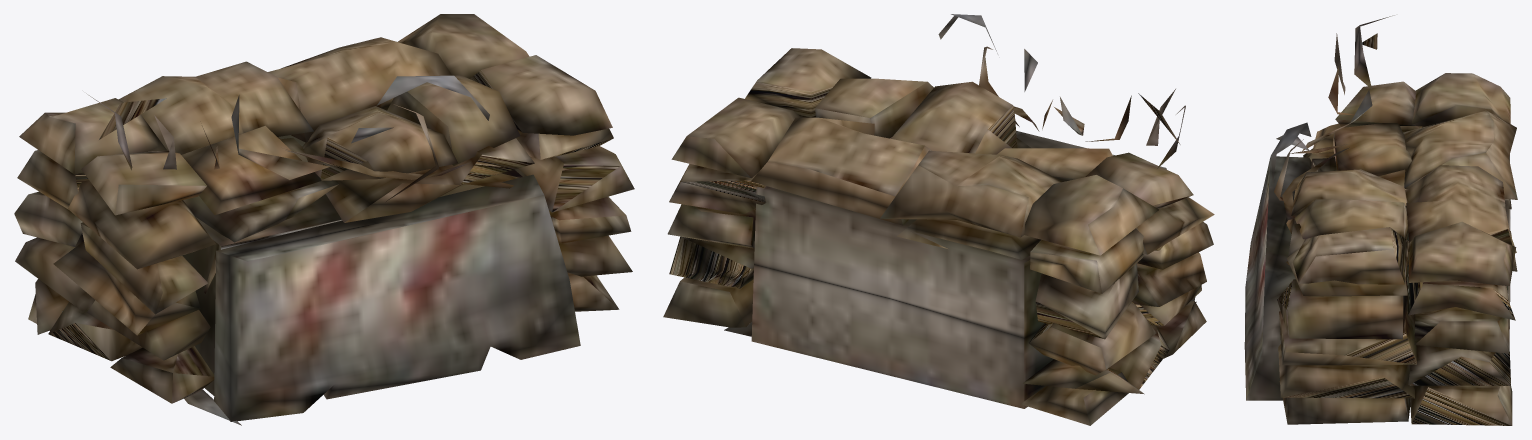
File: checkpoint_barricade.glb
The picture shows the model from 3 angles, left to right: view 1: azimuth 30°, elevation 25°; view 2: azimuth 150°, elevation 25°; view 3: azimuth 270°, elevation 25°; orthographic projection. The views are drawn at different scales.
Visible parts, largest first — view 1: geometry_0; view 2: geometry_0; view 3: geometry_0.
Boxes of the visible parts, x1,y1,x2,y2 form: geometry_0: [14, 14, 634, 425]; geometry_0: [663, 14, 1214, 425]; geometry_0: [1244, 15, 1517, 425].
Size of the model in its own units: 3.39 by 1.89 by 2.05.
Materials: 1 (1 with a texture image).
